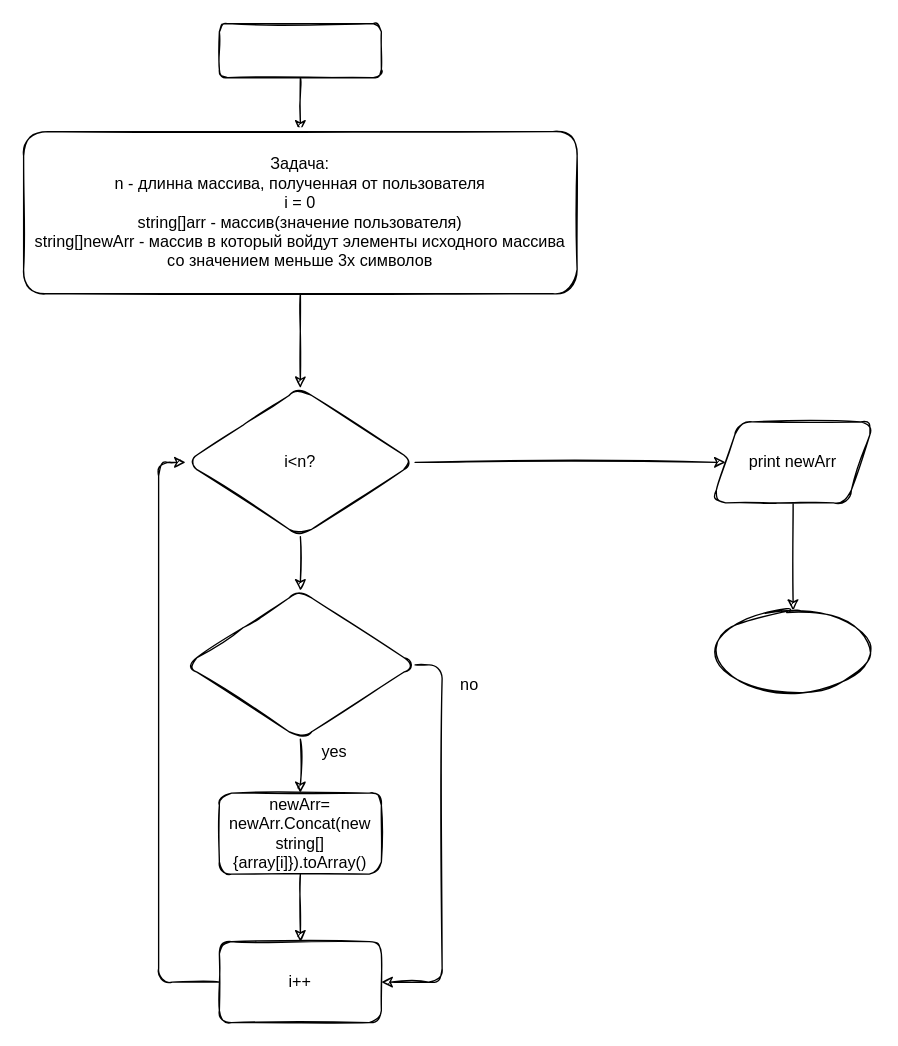
Image size: 898x1046. Some labels were removed from this diagram. The shapes that lost their labels are listed below. From the top down, each one's centre as x and y in pixels, then its label:
At [299,50]: "Lamp doesn't work".
At [299,664]: "arr[i]<=3?".
At [792,651]: "end".
